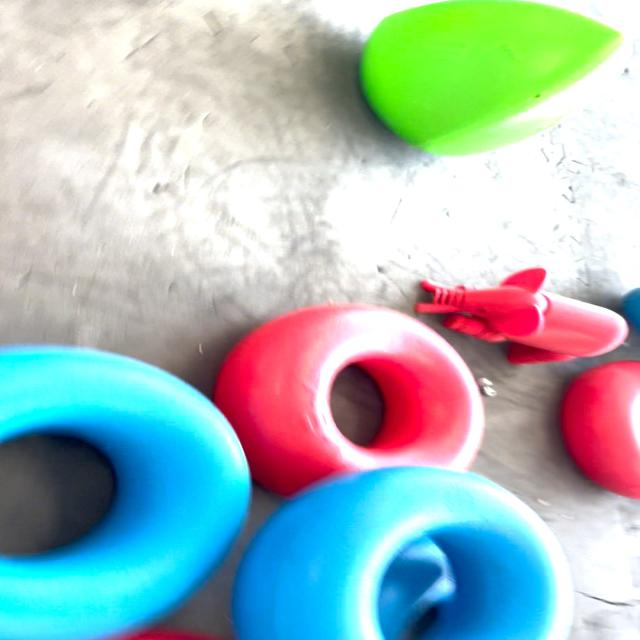Blue-Ring: (0, 346, 249, 640), (233, 466, 573, 640)
Red-Ring: (216, 302, 484, 496), (559, 361, 640, 498)
